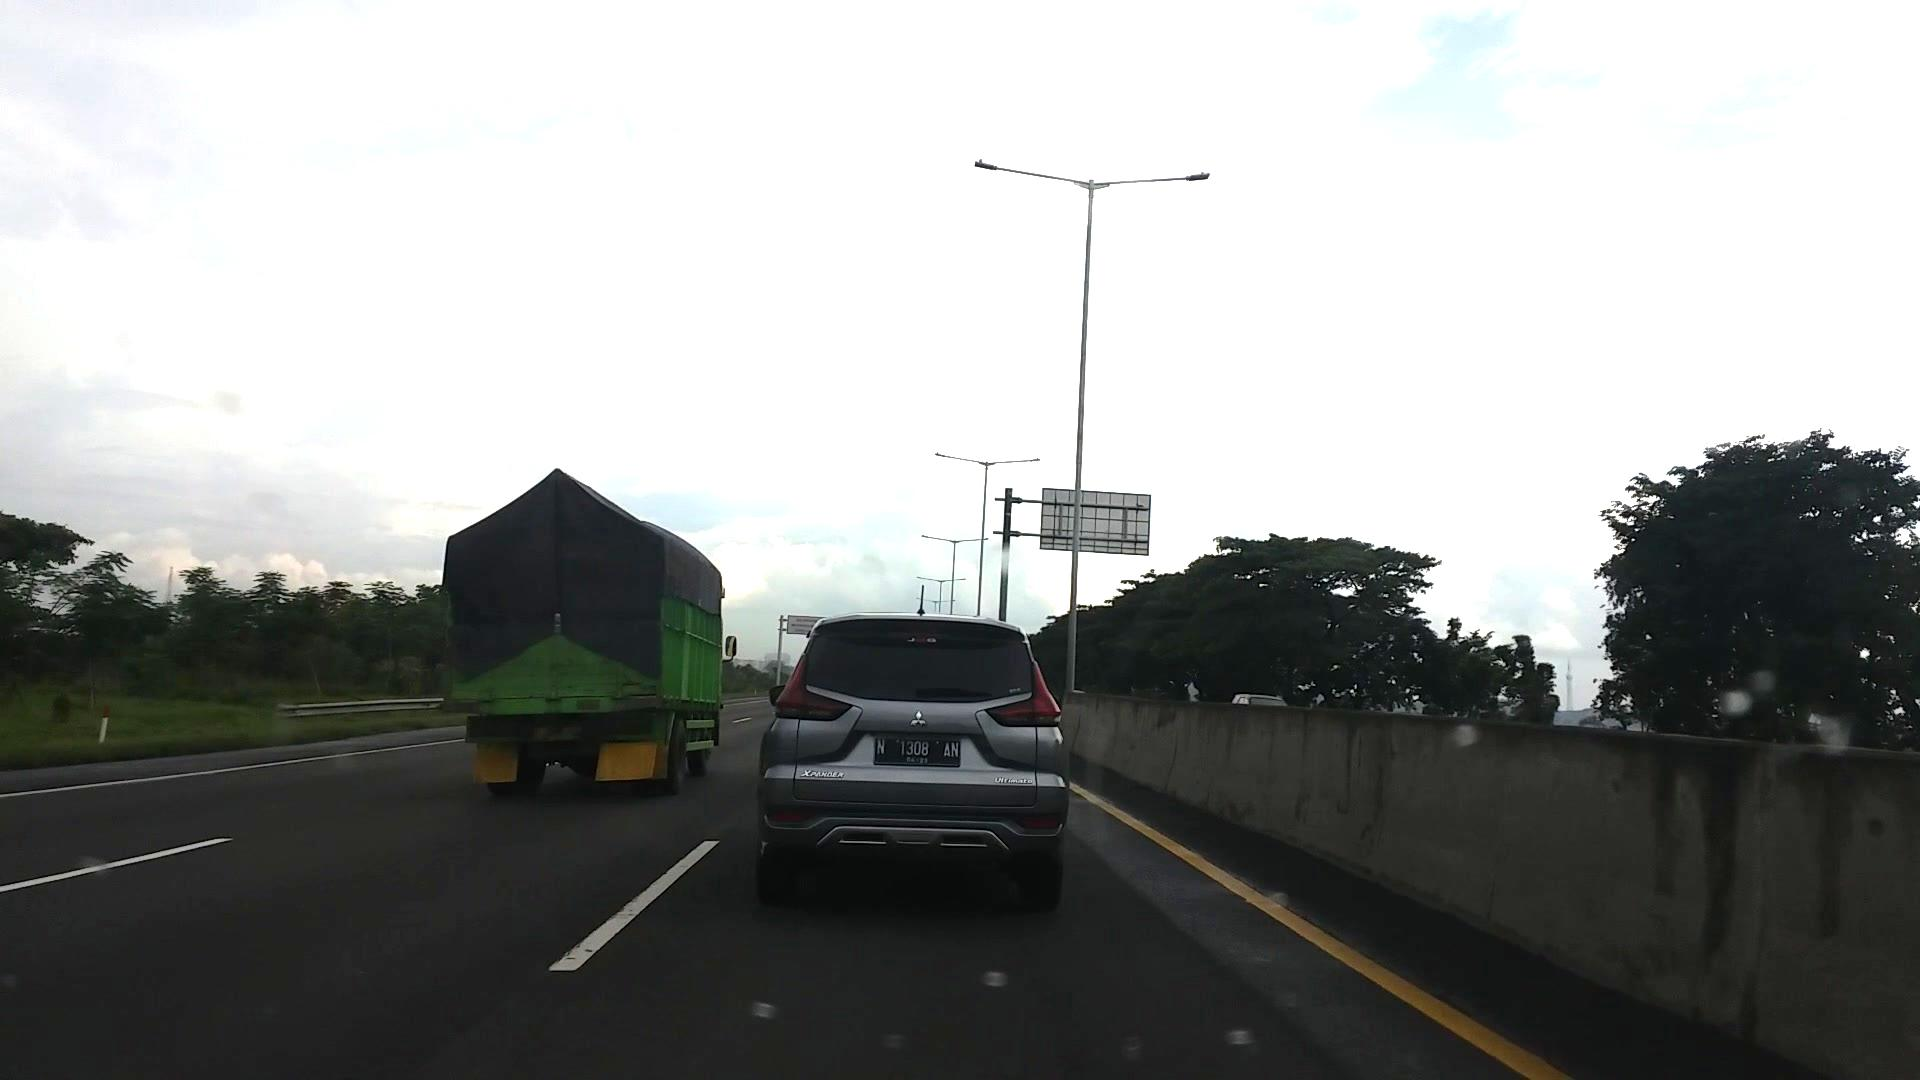plate_positive: (872, 735, 960, 767)
